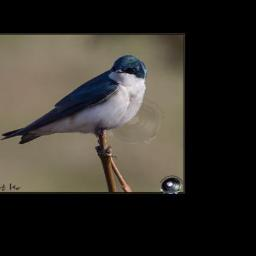Swallow: (0, 54, 148, 144)
